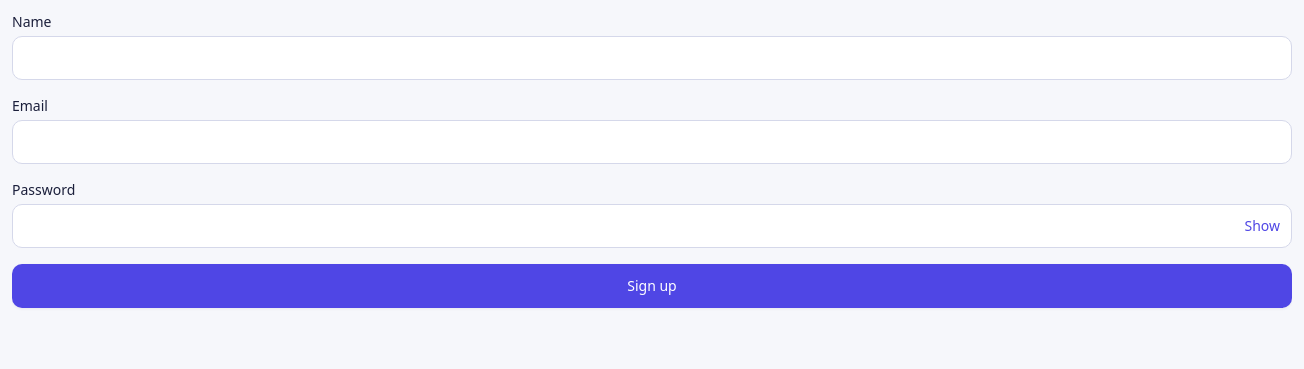
Test: SignupForm › lists only the password rules that are broken
Type "Md" into the field labelled "Name".
click(652, 58); type("Md")  # box [12,36,1292,80]
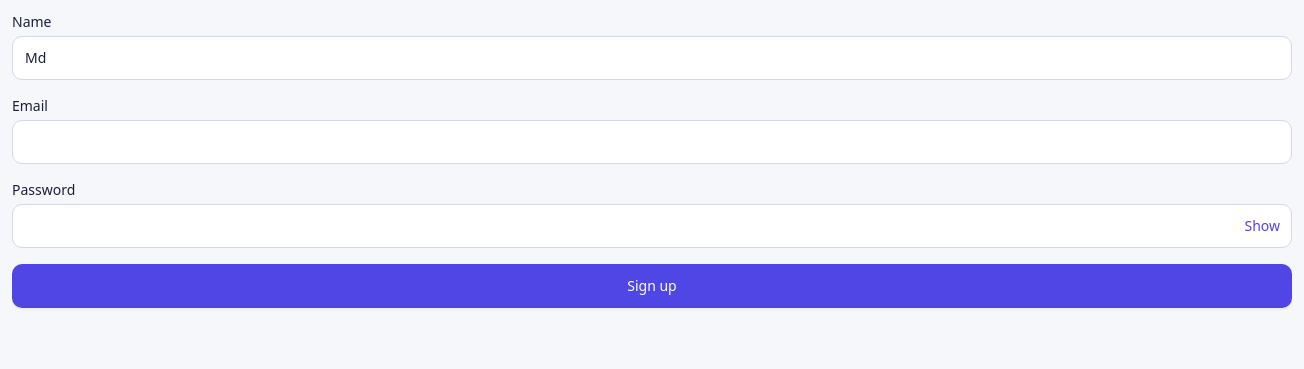
Type "md@example.com" into the field labelled "Email".
click(652, 142); type("md@example.com")  # box [12,120,1292,164]
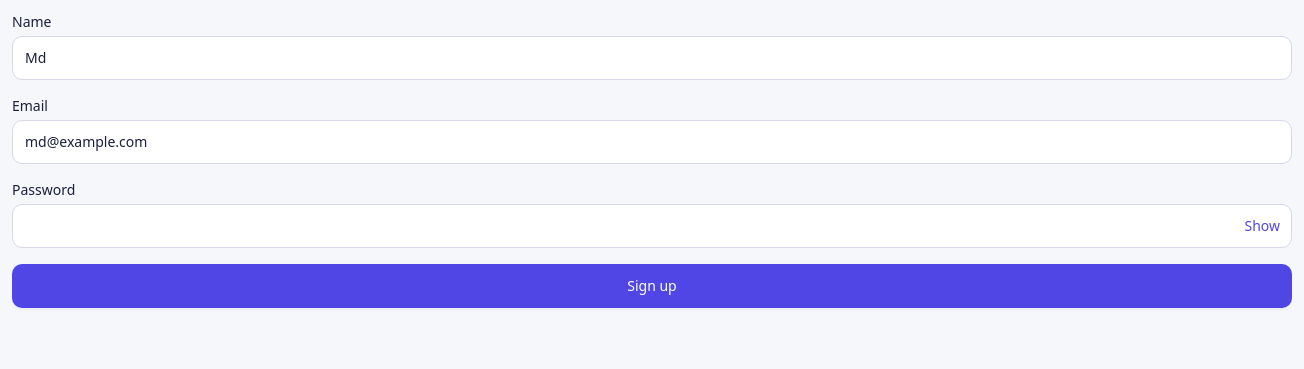
Type "abcdefgh" into the password field labelled "Password".
click(652, 226); type("abcdefgh")  # box [12,204,1292,248]
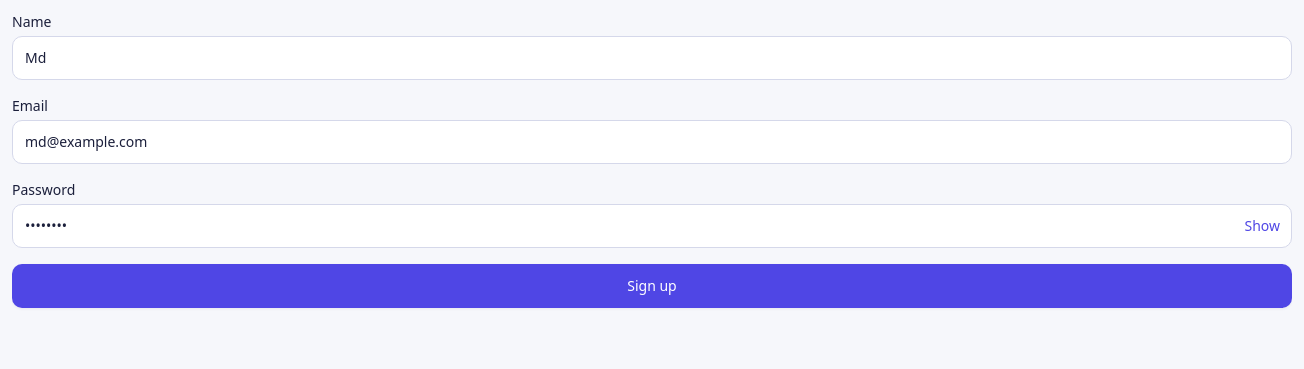
Click the button "Sign up".
click(652, 286)  # box [12,264,1292,308]
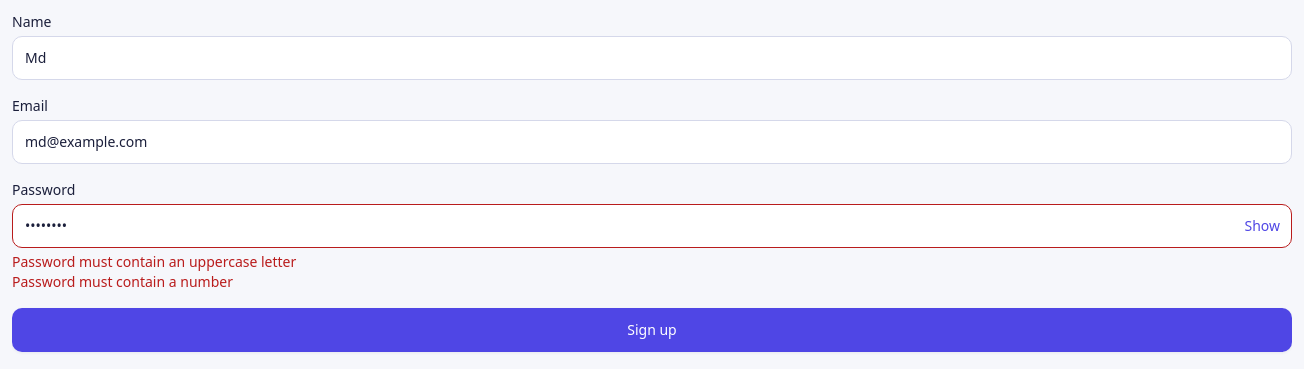
Check: the text "Password must contain an uppercase letter" is shown, box [12,252,296,271]
Check: the text "Password must contain a number" is shown, box [12,272,233,291]
